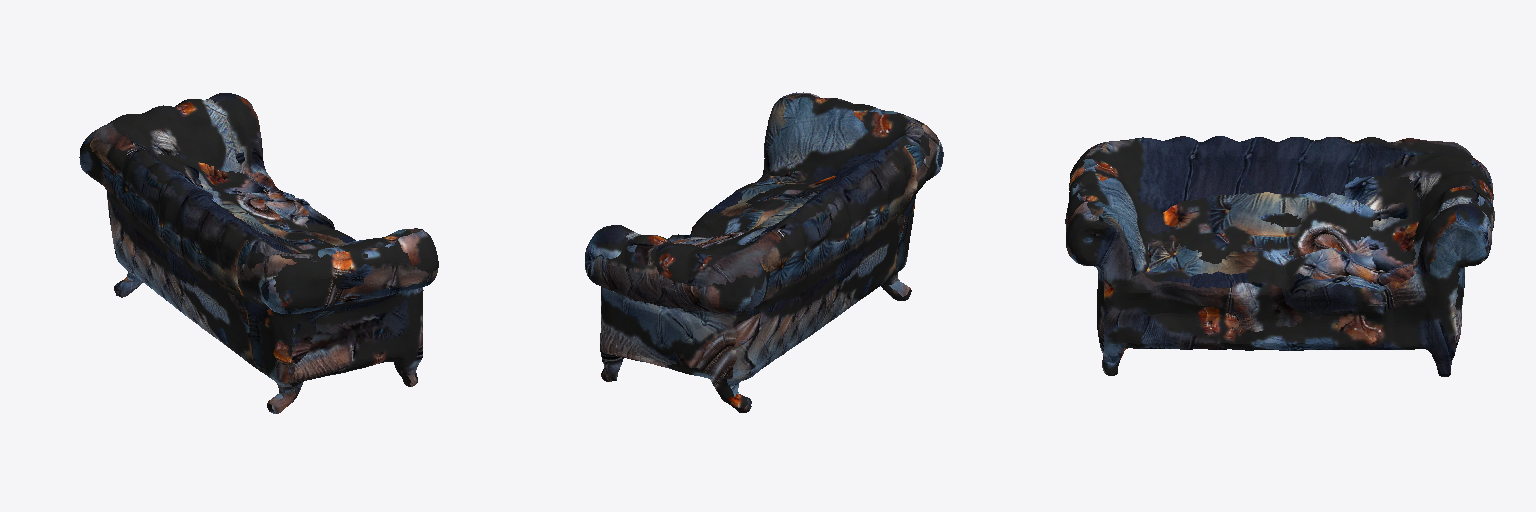
3 renders of one model, left to right at view 1: azimuth 30°, elevation 25°; view 2: azimuth 150°, elevation 25°; view 3: azimuth 270°, elevation 25°, orthographic.
Visible parts, largest first — view 1: sofa; view 2: sofa; view 3: sofa.
Part boxes in pixels (x1,y1,x2,y2): sofa: (79, 93, 438, 413); sofa: (585, 92, 943, 412); sofa: (1065, 136, 1494, 376).
Size of the model in its own units: 0.5651 by 0.5368 by 1.2.
Materials: 1 (1 with a texture image).